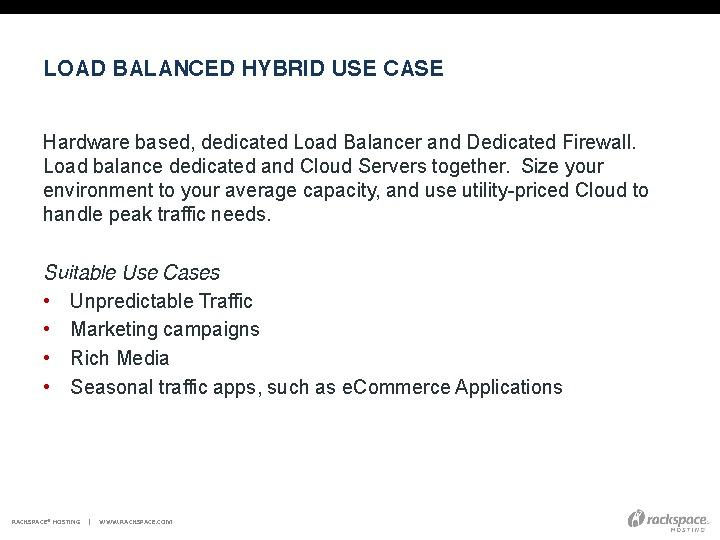paragraph: (27, 126, 663, 447)
title: (38, 42, 461, 97)
